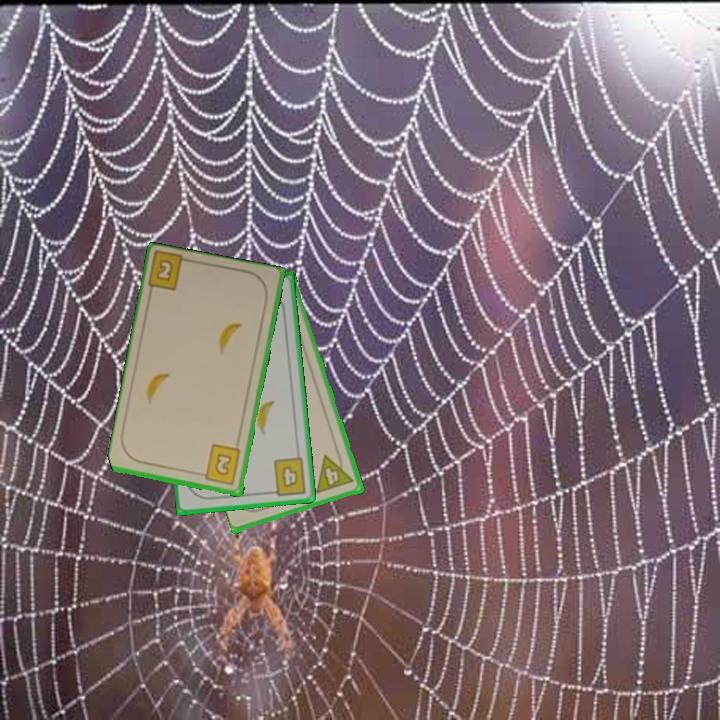2b: (196, 442, 244, 488), (153, 256, 176, 284)
4b: (266, 454, 309, 498)
4p: (313, 449, 357, 496)
